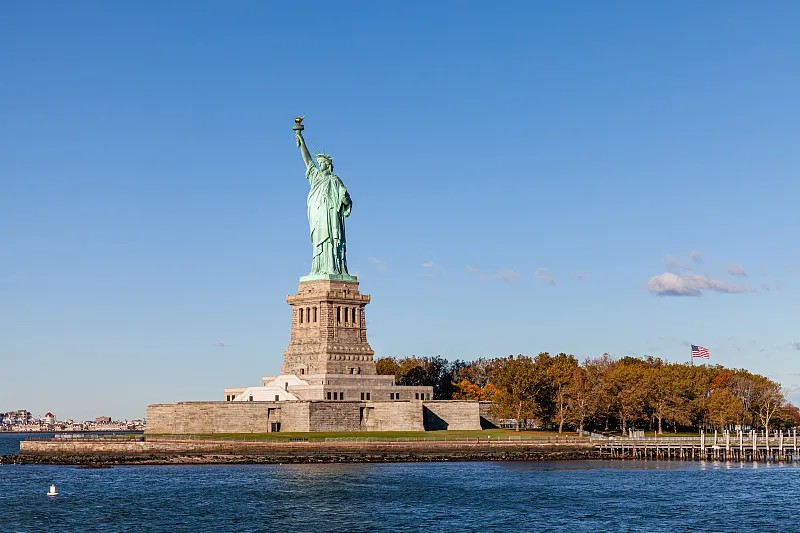SL: (279, 114, 377, 374)
